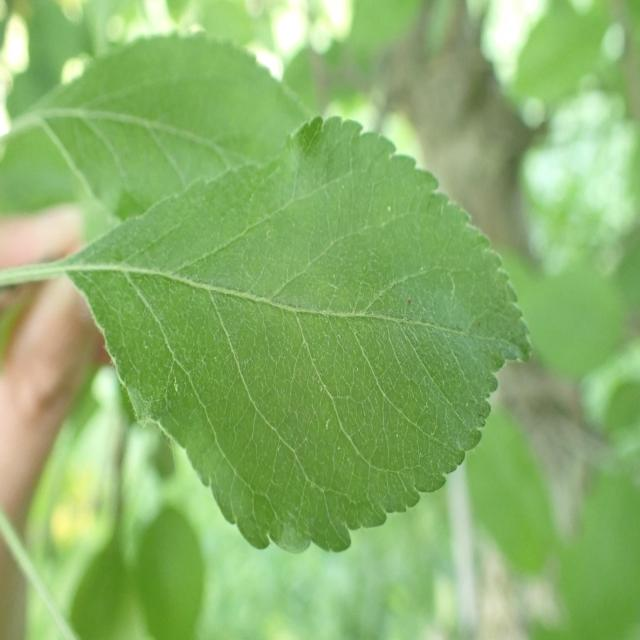healthy: (66, 113, 532, 556), (33, 30, 314, 219)
